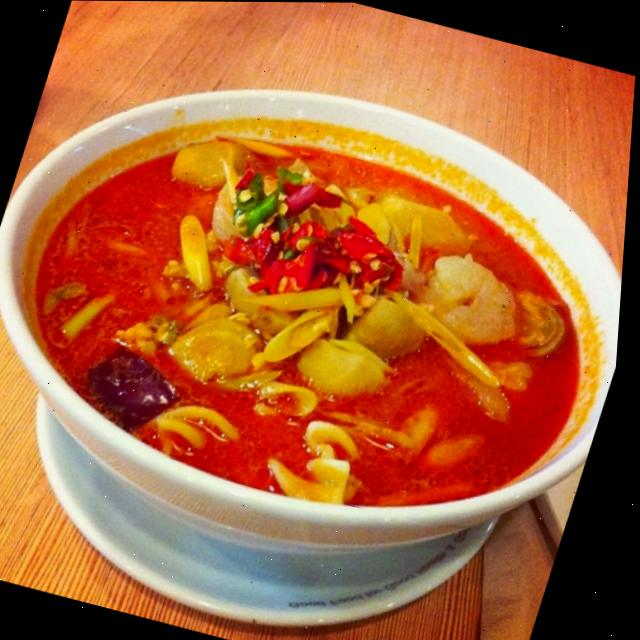汤锅炖物: (26, 88, 596, 563)
